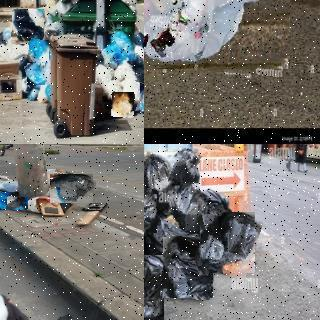Garbage: (144, 0, 292, 73), (196, 209, 259, 277), (162, 236, 215, 299), (169, 184, 209, 235), (49, 171, 94, 206), (144, 254, 165, 320), (171, 146, 201, 188), (144, 152, 175, 191), (12, 9, 45, 45), (199, 187, 232, 222), (110, 28, 135, 61), (144, 190, 159, 236), (112, 92, 135, 118), (28, 39, 50, 63), (26, 62, 46, 86), (128, 53, 144, 83), (0, 191, 20, 210), (7, 196, 28, 210), (137, 80, 144, 115)
